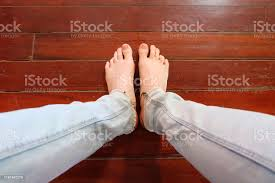Feet: (103, 41, 138, 131), (138, 43, 170, 132)
